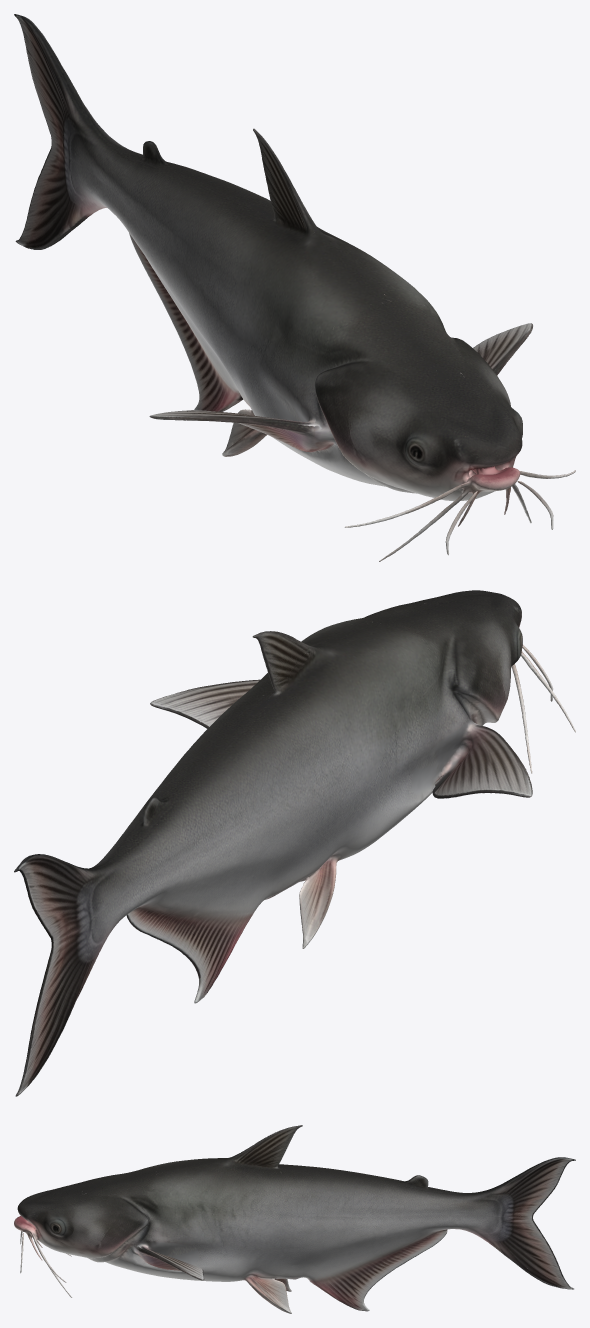
Rendered from Pangasius.glb.
3 views of the same model, one above another, from view 1: azimuth 30°, elevation 25°; view 2: azimuth 150°, elevation 25°; view 3: azimuth 270°, elevation 25° (orthographic). The views are drawn at different scales.
Bounding box in the file's own units: 0.8512 × 0.6928 × 1.9.
Materials: 1 (1 with a texture image).
